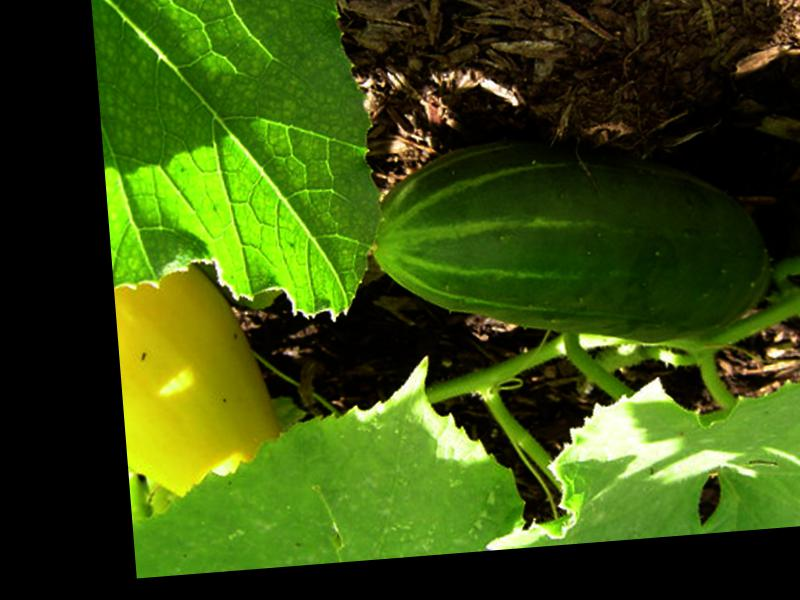Cucumber: (363, 117, 777, 366)
